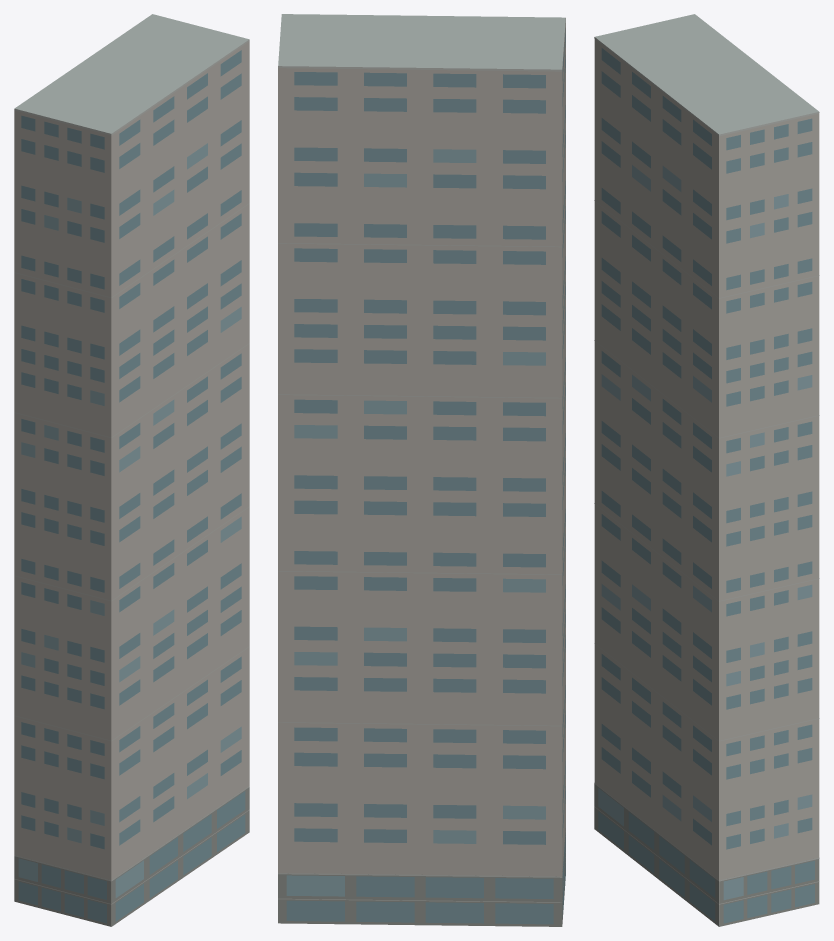
File: residential-aa5e17c6-59f4-46f5-b2bb-9d15d7ce6d49.glb
3 renders of one model, left to right at view 1: azimuth 30°, elevation 25°; view 2: azimuth 150°, elevation 25°; view 3: azimuth 270°, elevation 25°, orthographic. The views are drawn at different scales.
Parts seen in each view (by area): view 1: residential-aa5e17c6-59f4-46f5-b2bb-9d15d7ce6d49.tmp; view 2: residential-aa5e17c6-59f4-46f5-b2bb-9d15d7ce6d49.tmp; view 3: residential-aa5e17c6-59f4-46f5-b2bb-9d15d7ce6d49.tmp.
Boxes of the visible parts, x1,y1,x2,y2 form: residential-aa5e17c6-59f4-46f5-b2bb-9d15d7ce6d49.tmp: (14, 14, 249, 926); residential-aa5e17c6-59f4-46f5-b2bb-9d15d7ce6d49.tmp: (278, 14, 565, 926); residential-aa5e17c6-59f4-46f5-b2bb-9d15d7ce6d49.tmp: (594, 14, 819, 926).
Size of the model in its own units: 34.95 by 107 by 27.55.
